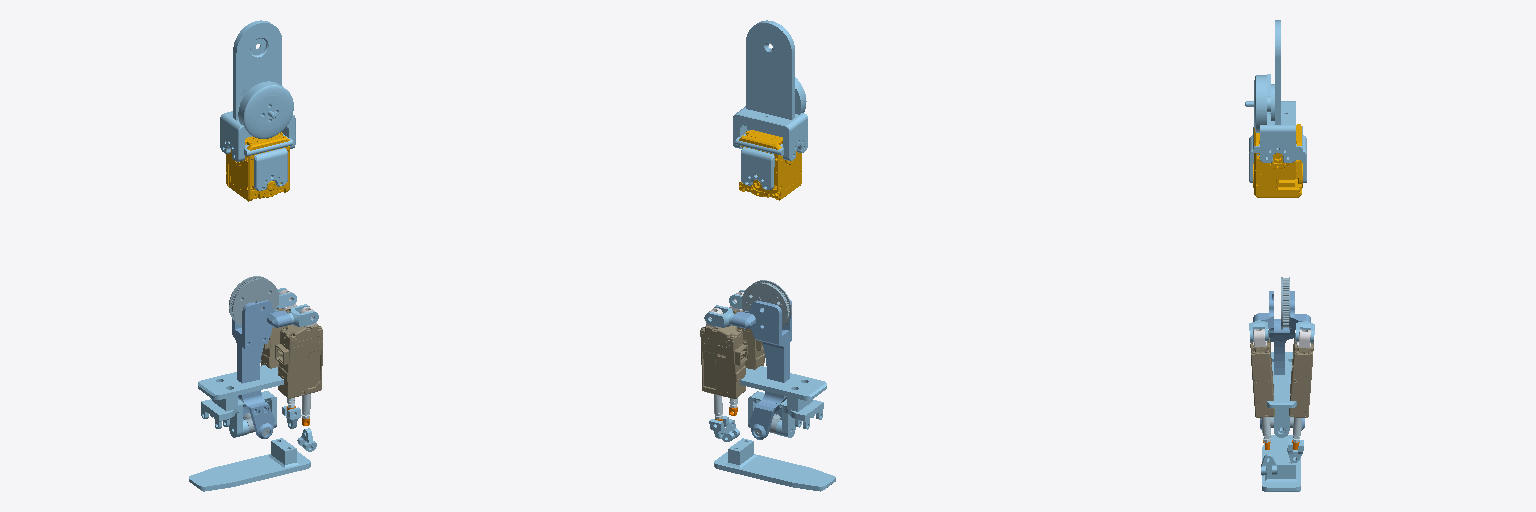
--- Facts derived from the render (not from the file) ---
Views: 3 orthographic renders of the robot side by side, from view 1: azimuth 30°, elevation 25°; view 2: azimuth 150°, elevation 25°; view 3: azimuth 270°, elevation 25°.
Model right_3R+RH5_leg with 20 links and 19 joints (15 revolute, 2 prismatic, 2 fixed), rooted at hip_yaw_link, posed all joints at 0.
Visible links, largest first — view 1: hip_pitch_link, right_ank_base_link, ank_act_link_2, ank_roll_link, ank_rigid_foot_link, hip_roll_link, knee_link, hip_yaw_link, ank_act_link; view 2: hip_pitch_link, right_ank_base_link, ank_roll_link, ank_act_link, ank_rigid_foot_link, hip_yaw_link, hip_roll_link, knee_link, ank_act_link_2; view 3: hip_pitch_link, hip_roll_link, hip_yaw_link, ank_rigid_foot_link, right_ank_base_link, ank_act_link_2, ank_act_link, ank_roll_link.
Boxes of the visible links, x1,y1,x2,y2 form: hip_pitch_link: (233,20,293,190); right_ank_base_link: (232,300,291,438); ank_act_link_2: (275,324,322,398); ank_roll_link: (198,365,283,437); ank_rigid_foot_link: (189,438,310,491); hip_roll_link: (226,132,289,201); knee_link: (229,276,278,325); hip_yaw_link: (220,111,295,161); ank_act_link: (261,308,290,368); hip_pitch_link: (735,20,806,189); right_ank_base_link: (731,300,791,439); ank_roll_link: (740,366,826,437); ank_act_link: (700,325,747,398); ank_rigid_foot_link: (714,438,835,491); hip_yaw_link: (733,106,807,160); hip_roll_link: (739,130,801,200); knee_link: (742,280,791,327); ank_act_link_2: (733,310,764,369); hip_pitch_link: (1245,20,1306,182); hip_roll_link: (1253,124,1302,197); hip_yaw_link: (1260,101,1295,162); ank_rigid_foot_link: (1262,435,1300,491); right_ank_base_link: (1253,291,1310,430); ank_act_link_2: (1250,338,1274,417); ank_act_link: (1289,338,1313,417); ank_roll_link: (1267,352,1296,437).
Size in the robot's own frame: 0.1048 by 0.0527 by 0.3745 metres.
Meshes: 20 distinct files referenced, 20 mesh visuals loaded (20 binary STL).

The robot description file, URDF, robot "right_3R+RH5_leg":
<?xml version="1.0" ?><robot name="right_3R+RH5_leg">  
  <link name="hip_yaw_link">    
    <visual>      
      <origin xyz="0 0 0" rpy="0 -0 0"/>      
      <geometry>        
        <mesh filename="package:///meshes/right_hip_yaw_link_visual.stl"/>        
      </geometry>      
      <material name="hip_yaw_link_material">        
        <color rgba="0.61568627450980395466 0.81176470588235305481 0.92941176470588238168 1.0"/>        
      </material>      
    </visual>    
    <collision>      
      <origin xyz="0 0 0" rpy="0 -0 0"/>      
      <geometry>        
        <mesh filename="package:///meshes/right_hip_yaw_link_collision.stl"/>        
      </geometry>      
    </collision>    
    <inertial>      
      <origin xyz="-3.8983216683675526987e-18 -7.2300657443008242353e-19 -0.0084531286823174307116" rpy="0 0 0"/>      
      <mass value="0.0052740645607467495637"/>      
      <inertia ixx="7.6143588499644941938e-07" ixy="7.0320919242220844363e-15" ixz="8.8320822891460543035e-34" iyy="1.7966487931922366156e-06" iyz="-6.9171929592048350638e-33" izz="1.8873281741438425462e-06"/>      
    </inertial>    
  </link>  

  <link name="hip_roll_link">    
    <visual>      
      <origin xyz="0 0 0" rpy="0 -0 0"/>      
      <geometry>        
        <mesh filename="package:///meshes/right_hip_roll_link_visual.stl"/>        
      </geometry>      
      <material name="hip_roll_link_material">        
        <color rgba="0.95018735644455865064 0.7067892720042843191 0.061612079402596720001 1.0"/>        
      </material>      
    </visual>    
    <collision>      
      <origin xyz="0 0 0" rpy="0 -0 0"/>      
      <geometry>        
        <mesh filename="package:///meshes/right_hip_roll_link_collision.stl"/>        
      </geometry>      
    </collision>    
    <inertial>      
      <origin xyz="-0.012000151133959833377 -0.00049588831385889416224 -0.018504019244505811453" rpy="0 0 0"/>      
      <mass value="0.098012391483528665814"/>      
      <inertia ixx="2.0221748766306652981e-05" ixy="-4.1552068246547218946e-08" ixz="-4.1225592188429616372e-08" iyy="2.7358099958307135748e-05" iyz="-5.093573175241380698e-07" izz="2.7358069524723690384e-05"/>      
    </inertial>    
  </link>  

  <link name="hip_pitch_link">    
    <visual>      
      <origin xyz="0 0 0" rpy="0 -0 0"/>      
      <geometry>        
        <mesh filename="package:///meshes/right_hip_pitch_link_visual.stl"/>        
      </geometry>      
      <material name="hip_pitch_link_material">        
        <color rgba="0.61568627450980395466 0.81176470588235283277 0.92941176470588227065 1.0"/>        
      </material>      
    </visual>    
    <collision>      
      <origin xyz="0 0 0" rpy="0 -0 0"/>      
      <geometry>        
        <mesh filename="package:///meshes/right_hip_pitch_link_collision.stl"/>        
      </geometry>      
    </collision>    
    <inertial>      
      <origin xyz="-0.00014465123710725999516 0.055851948309978222129 0.027156881267530071783" rpy="0 0 0"/>      
      <mass value="0.075144662701080278122"/>      
      <inertia ixx="4.0191529808885851835e-05" ixy="1.623844418442417537e-07" ixz="-1.4752139614323362055e-08" iyy="1.4356178520875724372e-05" iyz="-2.3026600051060964539e-06" izz="4.2265078109541420618e-05"/>      
    </inertial>    
  </link>  

  <link name="knee_link">    
    <visual>      
      <origin xyz="0 0 0" rpy="0 -0 0"/>      
      <geometry>        
        <mesh filename="package:///meshes/right_knee_link_visual.stl"/>        
      </geometry>      
      <material name="knee_link_material">        
        <color rgba="0.62989867807310029324 0.73714958717504697194 0.80150013263621511239 1.0"/>        
      </material>      
    </visual>    
    <collision>      
      <origin xyz="0 0 0" rpy="0 -0 0"/>      
      <geometry>        
        <mesh filename="package:///meshes/right_knee_link_collision.stl"/>        
      </geometry>      
    </collision>    
    <inertial>      
      <origin xyz="2.2930993575220520592e-15 1.0194134712680472382e-16 -0.0032457853126615842862" rpy="0 0 0"/>      
      <mass value="0.0043868974356887713642"/>      
      <inertia ixx="4.1908664095026372809e-07" ixy="-3.527451692166674951e-22" ixz="2.5633827820732630342e-20" iyy="4.1908664095022767625e-07" iyz="-2.7729161229050645453e-20" izz="8.0521341717898272296e-07"/>      
    </inertial>    
  </link>  

  <link name="right_ank_base_link">    
    <visual>      
      <origin xyz="0 0 0" rpy="0 -0 0"/>      
      <geometry>        
        <mesh filename="package:///meshes/right_ank_base_link_visual.stl"/>        
      </geometry>      
      <material name="right_ank_base_link_material">        
        <color rgba="0.5455536855413490871 0.7211394378947934003 0.87071994595430790564 1.0"/>        
      </material>      
    </visual>    
    <collision>      
      <origin xyz="0 0 0" rpy="0 -0 0"/>      
      <geometry>        
        <mesh filename="package:///meshes/right_ank_base_link_collision.stl"/>        
      </geometry>      
    </collision>    
    <inertial>      
      <origin xyz="-0.0022434246825545952481 -0.043104144816367810644 0.0063175704226240839492" rpy="0 0 0"/>      
      <mass value="0.014262085602793541511"/>      
      <inertia ixx="1.5262992632425638055e-05" ixy="-9.1266664371014340128e-07" ixz="6.0404946505415910537e-08" iyy="1.9634196913479027744e-06" iyz="7.3113059658501759968e-08" izz="1.5076214172992223627e-05"/>      
    </inertial>    
  </link>  

  <link name="ank_pitch_link">    
    <visual>      
      <origin xyz="0 0 0" rpy="0 -0 0"/>      
      <geometry>        
        <mesh filename="package:///meshes/right_ank_pitch_link_visual.stl"/>        
      </geometry>      
      <material name="ank_pitch_link_material">        
        <color rgba="0.63157201649708316626 0.72836456044913711061 0.78644008682036969926 1.0"/>        
      </material>      
    </visual>    
    <collision>      
      <origin xyz="0 0 0" rpy="0 -0 0"/>      
      <geometry>        
        <mesh filename="package:///meshes/right_ank_pitch_link_collision.stl"/>        
      </geometry>      
    </collision>    
    <inertial>      
      <origin xyz="3.9220459174922812651e-08 0.00058467997205909570928 -0.014599924406173933264" rpy="0 0 0"/>      
      <mass value="0.0041366725921694333726"/>      
      <inertia ixx="4.3252419788338039062e-07" ixy="1.5885354162184914303e-13" ixz="1.5670565564399258187e-12" iyy="3.9522408111774207479e-07" iyz="1.663814119414858242e-14" izz="8.5883658455740207731e-08"/>      
    </inertial>    
  </link>  

  <link name="ank_roll_link">    
    <visual>      
      <origin xyz="0 0 0" rpy="0 -0 0"/>      
      <geometry>        
        <mesh filename="package:///meshes/right_ank_roll_link_visual.stl"/>        
      </geometry>      
      <material name="ank_roll_link_material">        
        <color rgba="0.61568627450980395466 0.81176470588235283277 0.92941176470588238168 1.0"/>        
      </material>      
    </visual>    
    <collision>      
      <origin xyz="0 0 0" rpy="0 -0 0"/>      
      <geometry>        
        <mesh filename="package:///meshes/right_ank_roll_link_collision.stl"/>        
      </geometry>      
    </collision>    
    <inertial>      
      <origin xyz="-1.4901271645905528225e-10 -0.013684967917931601528 0.014389602633949057781" rpy="0 0 0"/>      
      <mass value="0.0054237955467263104098"/>      
      <inertia ixx="2.3215873123896826578e-06" ixy="-5.7389209348295819919e-15" ixz="-9.0715784905635599198e-15" iyy="2.105458792231080349e-06" iyz="3.6308271258505765771e-07" izz="5.6387331373110577477e-07"/>      
    </inertial>    
  </link>  

  <link name="ank_rigid_foot_link">    
    <visual>      
      <origin xyz="0 0 0" rpy="0 -0 0"/>      
      <geometry>        
        <mesh filename="package:///meshes/right_ank_rigid_foot_link_visual.stl"/>        
      </geometry>      
      <material name="ank_rigid_foot_link_material">        
        <color rgba="0.61568627450980395466 0.81176470588235294379 0.92941176470588238168 1.0"/>        
      </material>      
    </visual>    
    <collision>      
      <origin xyz="0 0 0" rpy="0 -0 0"/>      
      <geometry>        
        <mesh filename="package:///meshes/right_ank_rigid_foot_link_collision.stl"/>        
      </geometry>      
    </collision>    
    <inertial>      
      <origin xyz="-0.023731999094105331316 -9.4396649343501770574e-10 -0.013306321578886238718" rpy="0 0 0"/>      
      <mass value="0.0082157357687249205763"/>      
      <inertia ixx="6.5404454512568329969e-07" ixy="3.4320556103395723728e-13" ixz="-3.2926756768140883475e-07" iyy="5.8836130895435065553e-06" iyz="-3.0207161970767061131e-15" izz="6.2852473690143510358e-06"/>      
    </inertial>    
  </link>  

  <joint name="right_ank_foot" type="fixed">    
    <origin xyz="2.6020852139652106416e-18 -0.022500000000000019984 0.025600000000000008166" rpy="-1.5707963267948936714 -1.570796326794896558 0"/>    
    <parent link="ank_roll_link"/>    
    <child link="ank_rigid_foot_link"/>    
    <axis xyz="0 0 1"/>    
    <limit effort="1" velocity="20"/>    
    <joint_properties friction="0.0"/>    
  </joint>  

  <link name="ank_rr_link">    
    <visual>      
      <origin xyz="0 0 0" rpy="0 -0 0"/>      
      <geometry>        
        <mesh filename="package:///meshes/right_ank_rr_link_visual.stl"/>        
      </geometry>      
      <material name="ank_rr_link_material">        
        <color rgba="0.61568627450980395466 0.81176470588235294379 0.92941176470588238168 1.0"/>        
      </material>      
    </visual>    
    <collision>      
      <origin xyz="0 0 0" rpy="0 -0 0"/>      
      <geometry>        
        <mesh filename="package:///meshes/right_ank_rr_link_collision.stl"/>        
      </geometry>      
    </collision>    
    <inertial>      
      <origin xyz="2.9962725549968777526e-05 -0.0069241283254153134993 -0.0018999999999999986951" rpy="0 0 0"/>      
      <mass value="0.0004758513732428606177"/>      
      <inertia ixx="1.1040705352249971577e-08" ixy="4.3855175770053584868e-11" ixz="-6.710285772970852926e-15" iyy="9.5635364996381564202e-09" iyz="-4.7962001969980322085e-32" izz="1.4744115584475854764e-08"/>      
    </inertial>    
  </link>  

  <link name="ank_act_rod_head">    
    <visual>      
      <origin xyz="0 0 0" rpy="0 -0 0"/>      
      <geometry>        
        <mesh filename="package:///meshes/right_ank_act_rod_head_visual.stl"/>        
      </geometry>      
      <material name="ank_act_rod_head_material">        
        <color rgba="0.97254901960784312376 0.52941176470588235947 0.0039215686274509803377 1.0"/>        
      </material>      
    </visual>    
    <collision>      
      <origin xyz="0 0 0" rpy="0 -0 0"/>      
      <geometry>        
        <mesh filename="package:///meshes/right_ank_act_rod_head_collision.stl"/>        
      </geometry>      
    </collision>    
    <inertial>      
      <origin xyz="-5.7828415394494329719e-11 0.0033987031118029092588 -0.0020055782443104655695" rpy="0 0 0"/>      
      <mass value="0.00066080012085386230676"/>      
      <inertia ixx="1.067579410464855452e-08" ixy="-1.8531171292467465003e-16" ixz="9.2603132968170797526e-16" iyy="2.3773718249661060612e-09" iyz="6.3401399719237501065e-12" izz="1.1538333246010971133e-08"/>      
    </inertial>    
  </link>  

  <joint name="right_ank_R21" type="revolute">    
    <origin xyz="0.0019999999999999948375 -0.010000000000000008882 -0.001899999999999998912" rpy="-1.5707963267948978903 -1.5676670168133413075 -1.5707963267948421571"/>    
    <parent link="ank_rr_link"/>    
    <child link="ank_act_rod_head"/>    
    <axis xyz="0 0 1"/>    
    <limit effort="1" velocity="20" lower="-1.570796326794896558" upper="1.570796326794896558"/>    
    <joint_properties friction="0.0"/>    
  </joint>  

  <joint name="right_ank_R11" type="revolute">    
    <origin xyz="0.010000000000000001943 -0.012500000000000011102 0.040600000000000004141" rpy="-1.6768084170781386496e-16 1.6793651800265835693e-16 3.0693447373540627687"/>    
    <parent link="ank_roll_link"/>    
    <child link="ank_rr_link"/>    
    <axis xyz="0 0 1"/>    
    <limit effort="1" velocity="20" lower="-1.570796326794896558" upper="1.570796326794896558"/>    
    <joint_properties friction="0.0"/>    
  </joint>  

  <link name="ank_rr_link_2">    
    <visual>      
      <origin xyz="0 0 0" rpy="0 -0 0"/>      
      <geometry>        
        <mesh filename="package:///meshes/right_ank_rr_link_2_visual.stl"/>        
      </geometry>      
      <material name="ank_rr_link_2_material">        
        <color rgba="0.61568627450980395466 0.81176470588235294379 0.92941176470588238168 1.0"/>        
      </material>      
    </visual>    
    <collision>      
      <origin xyz="0 0 0" rpy="0 -0 0"/>      
      <geometry>        
        <mesh filename="package:///meshes/right_ank_rr_link_2_collision.stl"/>        
      </geometry>      
    </collision>    
    <inertial>      
      <origin xyz="2.9962725549965304691e-05 0.0069241283254153134993 -0.0018999999999999991288" rpy="0 0 0"/>      
      <mass value="0.0004758513732428606177"/>      
      <inertia ixx="1.1040705352249968268e-08" ixy="-4.3855175770053423309e-11" ixz="6.7102857729708521371e-15" iyy="9.5635364996381564202e-09" iyz="4.8398011034330015542e-32" izz="1.4744115584475854764e-08"/>      
    </inertial>    
  </link>  

  <link name="ank_act_rod_head_2">    
    <visual>      
      <origin xyz="0 0 0" rpy="0 -0 0"/>      
      <geometry>        
        <mesh filename="package:///meshes/right_ank_act_rod_head_2_visual.stl"/>        
      </geometry>      
      <material name="ank_act_rod_head_2_material">        
        <color rgba="0.97254901960784312376 0.52941176470588235947 0.0039215686274509803377 1.0"/>        
      </material>      
    </visual>    
    <collision>      
      <origin xyz="0 0 0" rpy="0 -0 0"/>      
      <geometry>        
        <mesh filename="package:///meshes/right_ank_act_rod_head_2_collision.stl"/>        
      </geometry>      
    </collision>    
    <inertial>      
      <origin xyz="-5.7828408457563357717e-11 0.0033987031118029101262 -0.0020055782443104621" rpy="0 0 0"/>      
      <mass value="0.00066080012085386230676"/>      
      <inertia ixx="1.067579410464855452e-08" ixy="-1.8531171289157453949e-16" ixz="9.2603132969142457224e-16" iyy="2.377371824966105234e-09" iyz="6.3401399719235950102e-12" izz="1.1538333246010974441e-08"/>      
    </inertial>    
  </link>  

  <joint name="right_ank_R22" type="revolute">    
    <origin xyz="0.0019999999999999983069 0.010000000000000008882 -0.0018999999999999919731" rpy="-1.57079632679489678 1.5534346511597141305 -1.5707963267948845676"/>    
    <parent link="ank_rr_link_2"/>    
    <child link="ank_act_rod_head_2"/>    
    <axis xyz="0 0 1"/>    
    <limit effort="1" velocity="20" lower="-1.570796326794896558" upper="1.570796326794896558"/>    
    <joint_properties friction="0.0"/>    
  </joint>  

  <joint name="right_ank_R12" type="revolute">    
    <origin xyz="-0.0099999999999999967387 -0.012500000000000066613 0.040600000000000004141" rpy="9.9988103143397809154e-17 -2.0967218556959505843e-16 0.068787263405097776037"/>    
    <parent link="ank_roll_link"/>    
    <child link="ank_rr_link_2"/>    
    <axis xyz="0 0 1"/>    
    <limit effort="1" velocity="20" lower="-1.570796326794896558" upper="1.570796326794896558"/>    
    <joint_properties friction="0.0"/>    
  </joint>  

  <joint name="right_ank_roll" type="revolute">    
    <origin xyz="-5.5511151231257827021e-17 0.0014999999999999768293 -0.014599999999999951558" rpy="1.5707963267948819031 1.5707963267948903408 0"/>    
    <parent link="ank_pitch_link"/>    
    <child link="ank_roll_link"/>    
    <axis xyz="0 0 1"/>    
    <limit effort="1" velocity="20" lower="-1.570796326794896558" upper="1.570796326794896558"/>    
    <joint_properties friction="0.0"/>    
  </joint>  

  <joint name="right_ank_pitch" type="revolute">    
    <origin xyz="6.1700474640187238976e-18 -0.10000000000000003331 0.020900000000000050482" rpy="2.1524613638062562596e-14 -2.3065317017433820093e-14 1.570796326794886566"/>    
    <parent link="right_ank_base_link"/>    
    <child link="ank_pitch_link"/>    
    <axis xyz="0 0 1"/>    
    <limit effort="1" velocity="20" lower="-1.570796326794896558" upper="1.570796326794896558"/>    
    <joint_properties friction="0.0"/>    
  </joint>  

  <link name="ank_b_link">    
    <visual>      
      <origin xyz="0 0 0" rpy="0 -0 0"/>      
      <geometry>        
        <mesh filename="package:///meshes/right_ank_b_link_visual.stl"/>        
      </geometry>      
      <material name="ank_b_link_material">        
        <color rgba="0.61568627450980406568 0.81176470588235294379 0.92941176470588238168 1.0"/>        
      </material>      
    </visual>    
    <collision>      
      <origin xyz="0 0 0" rpy="0 -0 0"/>      
      <geometry>        
        <mesh filename="package:///meshes/right_ank_b_link_collision.stl"/>        
      </geometry>      
    </collision>    
    <inertial>      
      <origin xyz="-4.9409968175544484784e-09 -5.9508723608379905335e-09 -0.0087165888679858073013" rpy="0 0 0"/>      
      <mass value="0.00089583742203429468642"/>      
      <inertia ixx="3.3822537554673509423e-08" ixy="3.9003059549392044671e-15" ixz="1.5176340834648324084e-14" iyy="4.5803979388252428374e-08" iyz="5.2207519907265700011e-14" izz="2.594683440225980531e-08"/>      
    </inertial>    
  </link>  

  <link name="ank_act_link_head">    
    <visual>      
      <origin xyz="0 0 0" rpy="0 -0 0"/>      
      <geometry>        
        <mesh filename="package:///meshes/right_ank_act_link_head_visual.stl"/>        
      </geometry>      
      <material name="ank_act_link_head_material">        
        <color rgba="0.8805660089056220885 0.88861789403065327697 0.90620490627743233158 1.0"/>        
      </material>      
    </visual>    
    <collision>      
      <origin xyz="0 0 0" rpy="0 -0 0"/>      
      <geometry>        
        <mesh filename="package:///meshes/right_ank_act_link_head_collision.stl"/>        
      </geometry>      
    </collision>    
    <inertial>      
      <origin xyz="8.5302207703837132192e-09 0.0023472231756390400485 -0.0042999819767211991742" rpy="0 0 0"/>      
      <mass value="0.0030517714925792842166"/>      
      <inertia ixx="5.2970409371069555265e-08" ixy="5.7058840513732253177e-14" ixz="-1.0325254833977710632e-14" iyy="5.6254659413317869681e-08" iyz="1.1646556569934522781e-13" izz="6.2451084839899270333e-08"/>      
    </inertial>    
  </link>  

  <link name="ank_act_link">    
    <visual>      
      <origin xyz="0 0 0" rpy="0 -0 0"/>      
      <geometry>        
        <mesh filename="package:///meshes/right_ank_act_link_visual.stl"/>        
      </geometry>      
      <material name="ank_act_link_material">        
        <color rgba="0.62004392100736005489 0.58836684613512624242 0.49897069021535672695 1.0"/>        
      </material>      
    </visual>    
    <collision>      
      <origin xyz="0 0 0" rpy="0 -0 0"/>      
      <geometry>        
        <mesh filename="package:///meshes/right_ank_act_link_collision.stl"/>        
      </geometry>      
    </collision>    
    <inertial>      
      <origin xyz="0.0049084207243647679647 -0.00013802439943745199182 -0.029947003577143242736" rpy="0 0 0"/>      
      <mass value="0.044782197696050365932"/>      
      <inertia ixx="1.52601284213093901e-05" ixy="2.2955773686564167726e-08" ixz="-8.1364204008484701276e-08" iyy="1.8188469778947831417e-05" iyz="-5.5542240843756715522e-08" izz="5.1496273901734048408e-06"/>      
    </inertial>    
  </link>  

  <link name="ank_act_rod">    
    <visual>      
      <origin xyz="0 0 0" rpy="0 -0 0"/>      
      <geometry>        
        <mesh filename="package:///meshes/right_ank_act_rod_visual.stl"/>        
      </geometry>      
      <material name="ank_act_rod_material">        
        <color rgba="0.80016770676329818102 0.8929145636529542962 0.94547111589042631685 1.0"/>        
      </material>      
    </visual>    
    <collision>      
      <origin xyz="0 0 0" rpy="0 -0 0"/>      
      <geometry>        
        <mesh filename="package:///meshes/right_ank_act_rod_collision.stl"/>        
      </geometry>      
    </collision>    
    <inertial>      
      <origin xyz="-2.7254954593875549871e-06 -1.2667795960830460569e-05 0.0060054807227744345932" rpy="0 0 0"/>      
      <mass value="0.0026945559868381372022"/>      
      <inertia ixx="3.2231832056358606122e-07" ixy="-9.9380293181823303651e-13" ixz="1.0490654904957858964e-10" iyy="3.223121869777962733e-07" iyz="5.6317539917809700133e-10" izz="1.8746557075763437803e-08"/>      
    </inertial>    
  </link>  

  <joint name="right_ank_act1" type="prismatic">    
    <origin xyz="2.272209339737596423e-06 -2.7408630920433552092e-15 -0.0592458187002377068" rpy="-3.141592653589793116 1.1304262253414882217e-15 -0.63671356442004933829"/>    
    <parent link="ank_act_link"/>    
    <child link="ank_act_rod"/>    
    <axis xyz="0 0 1"/>    
    <limit effort="1" velocity="20" lower="-0.017000000000000001221" upper="0.017000000000000001221"/>    
    <joint_properties friction="0.0"/>    
  </joint>  

  <joint name="right_ank_B31" type="revolute">    
    <origin xyz="6.9388939039072283776e-18 0.0060499999999999998224 -0.0043000000000000052069" rpy="1.570796326794896558 5.4574690831719151044e-06 -5.3684158344603204677e-16"/>    
    <parent link="ank_act_link_head"/>    
    <child link="ank_act_link"/>    
    <axis xyz="0 0 1"/>    
    <limit effort="1" velocity="20" lower="-1.570796326794896558" upper="1.570796326794896558"/>    
    <joint_properties friction="0.0"/>    
  </joint>  

  <joint name="right_ank_B21" type="revolute">    
    <origin xyz="0.0045000000000000005274 -2.7755575615628913511e-17 -0.017000000000000001221" rpy="-1.5707963267940137086 -1.5676670168132000871 -1.5707963267958193754"/>    
    <parent link="ank_b_link"/>    
    <child link="ank_act_link_head"/>    
    <axis xyz="0 0 1"/>    
    <limit effort="1" velocity="20" lower="-1.570796326794896558" upper="1.570796326794896558"/>    
    <joint_properties friction="0.0"/>    
  </joint>  

  <joint name="right_ank_B11" type="revolute">    
    <origin xyz="0.020000000000000000416 -0.0099999999999999811262 -0.011499999999999996336" rpy="-1.570796326794896558 -1.4985484105594246707 1.5707963267948987784"/>    
    <parent link="right_ank_base_link"/>    
    <child link="ank_b_link"/>    
    <axis xyz="0 0 1"/>    
    <limit effort="1" velocity="20" lower="-1.570796326794896558" upper="1.570796326794896558"/>    
    <joint_properties friction="0.0"/>    
  </joint>  

  <link name="ank_b_link_2">    
    <visual>      
      <origin xyz="0 0 0" rpy="0 -0 0"/>      
      <geometry>        
        <mesh filename="package:///meshes/right_ank_b_link_2_visual.stl"/>        
      </geometry>      
      <material name="ank_b_link_2_material">        
        <color rgba="0.61568627450980406568 0.81176470588235294379 0.92941176470588238168 1.0"/>        
      </material>      
    </visual>    
    <collision>      
      <origin xyz="0 0 0" rpy="0 -0 0"/>      
      <geometry>        
        <mesh filename="package:///meshes/right_ank_b_link_2_collision.stl"/>        
      </geometry>      
    </collision>    
    <inertial>      
      <origin xyz="-4.9409968175544484784e-09 5.9508723330824140907e-09 0.0087165888679858142402" rpy="0 0 0"/>      
      <mass value="0.00089583742203429468642"/>      
      <inertia ixx="3.3822537554673509423e-08" ixy="-3.9003059554955746529e-15" ixz="-1.5176340834648324084e-14" iyy="4.5803979388252415139e-08" iyz="5.22075199072656937e-14" izz="2.594683440225980531e-08"/>      
    </inertial>    
  </link>  

  <link name="ank_act_link_head_2">    
    <visual>      
      <origin xyz="0 0 0" rpy="0 -0 0"/>      
      <geometry>        
        <mesh filename="package:///meshes/right_ank_act_link_head_2_visual.stl"/>        
      </geometry>      
      <material name="ank_act_link_head_2_material">        
        <color rgba="0.8805660089056220885 0.88861789403065327697 0.90620490627743233158 1.0"/>        
      </material>      
    </visual>    
    <collision>      
      <origin xyz="0 0 0" rpy="0 -0 0"/>      
      <geometry>        
        <mesh filename="package:///meshes/right_ank_act_link_head_2_collision.stl"/>        
      </geometry>      
    </collision>    
    <inertial>      
      <origin xyz="8.5302207399783902428e-09 -0.0023472231756390070888 -0.0043000180232787791473" rpy="0 0 0"/>      
      <mass value="0.0030517714925792842166"/>      
      <inertia ixx="5.2970409371069006017e-08" ixy="-5.7058840825240588304e-14" ixz="1.0325254833860236621e-14" iyy="5.6254659413317882916e-08" iyz="1.1646556591912576352e-13" izz="6.2451084839898767408e-08"/>      
    </inertial>    
  </link>  

  <link name="ank_act_link_2">    
    <visual>      
      <origin xyz="0 0 0" rpy="0 -0 0"/>      
      <geometry>        
        <mesh filename="package:///meshes/right_ank_act_link_2_visual.stl"/>        
      </geometry>      
      <material name="ank_act_link_2_material">        
        <color rgba="0.62004392100736016591 0.58836684613512635345 0.49897069021535672695 1.0"/>        
      </material>      
    </visual>    
    <collision>      
      <origin xyz="0 0 0" rpy="0 -0 0"/>      
      <geometry>        
        <mesh filename="package:///meshes/right_ank_act_link_2_collision.stl"/>        
      </geometry>      
    </collision>    
    <inertial>      
      <origin xyz="0.0049084207243672529561 -0.00013802439943495241792 -0.029947003577138860825" rpy="0 0 0"/>      
      <mass value="0.044782197696050352054"/>      
      <inertia ixx="1.5260128421306046013e-05" ixy="2.2955773686690464971e-08" ixz="-8.136420400740882385e-08" iyy="1.818846977894372839e-05" iyz="-5.554224084275256458e-08" izz="5.1496273901726416641e-06"/>      
    </inertial>    
  </link>  

  <link name="ank_act_rod_2">    
    <visual>      
      <origin xyz="0 0 0" rpy="0 -0 0"/>      
      <geometry>        
        <mesh filename="package:///meshes/right_ank_act_rod_2_visual.stl"/>        
      </geometry>      
      <material name="ank_act_rod_2_material">        
        <color rgba="0.80016770676329818102 0.8929145636529542962 0.94547111589042631685 1.0"/>        
      </material>      
    </visual>    
    <collision>      
      <origin xyz="0 0 0" rpy="0 -0 0"/>      
      <geometry>        
        <mesh filename="package:///meshes/right_ank_act_rod_2_collision.stl"/>        
      </geometry>      
    </collision>    
    <inertial>      
      <origin xyz="-2.7254954594293200641e-06 -1.2667795961227158285e-05 0.0060054807227742845396" rpy="0 0 0"/>      
      <mass value="0.0026945559868381372022"/>      
      <inertia ixx="3.2231832056357446746e-07" ixy="-9.9380293178145843632e-13" ixz="1.0490654905088433301e-10" iyy="3.2231218697778457366e-07" iyz="5.6317539919026369076e-10" izz="1.8746557075763530447e-08"/>      
    </inertial>    
  </link>  

  <joint name="right_ank_act2" type="prismatic">    
    <origin xyz="2.2722093445462498984e-06 1.4675760606763788019e-15 -0.059208011505609670078" rpy="-3.1415926535897837901 -1.2381997508906741431e-14 -0.63671356441984272578"/>    
    <parent link="ank_act_link_2"/>    
    <child link="ank_act_rod_2"/>    
    <axis xyz="0 0 1"/>    
    <limit effort="1" velocity="20" lower="-0.017000000000000001221" upper="0.017000000000000001221"/>    
    <joint_properties friction="0.0"/>    
  </joint>  

  <joint name="right_ank_B32" type="revolute">    
    <origin xyz="1.3877787807814456755e-17 -0.0060499999999999998224 -0.0043000000000000017375" rpy="-1.5707963267948992225 -5.457469620238887183e-06 7.9371251948125348319e-15"/>    
    <parent link="ank_act_link_head_2"/>    
    <child link="ank_act_link_2"/>    
    <axis xyz="0 0 1"/>    
    <limit effort="1" velocity="20" lower="-1.570796326794896558" upper="1.570796326794896558"/>    
    <joint_properties friction="0.0"/>    
  </joint>  

  <joint name="right_ank_B22" type="revolute">    
    <origin xyz="0.0045000000000000005274 0 0.017000000000000001221" rpy="-1.5707963267948961139 1.5534346511595535922 -1.5707963267945059815"/>    
    <parent link="ank_b_link_2"/>    
    <child link="ank_act_link_head_2"/>    
    <axis xyz="0 0 1"/>    
    <limit effort="1" velocity="20" lower="-1.570796326794896558" upper="1.570796326794896558"/>    
    <joint_properties friction="0.0"/>    
  </joint>  

  <joint name="right_ank_B12" type="revolute">    
    <origin xyz="0.018680019623525345035 -0.010000000000000203171 0.023400000000000038824" rpy="1.570796326794896558 1.5020090633896898691 1.5707963267948452657"/>    
    <parent link="right_ank_base_link"/>    
    <child link="ank_b_link_2"/>    
    <axis xyz="0 0 1"/>    
    <limit effort="1" velocity="20" lower="-1.570796326794896558" upper="1.570796326794896558"/>    
    <joint_properties friction="0.0"/>    
  </joint>  

  <joint name="right_ank_base" type="fixed">    
    <origin xyz="3.9968028886505635455e-15 4.9960036108132044319e-16 -0.0064999999999950843627" rpy="1.318134964783001977e-13 -6.6907839384880761199e-14 1.0471975511965974093"/>    
    <parent link="knee_link"/>    
    <child link="right_ank_base_link"/>    
    <axis xyz="0 0 1"/>    
    <limit effort="1" velocity="20"/>    
    <joint_properties friction="0.0"/>    
  </joint>  

  <joint name="right_knee" type="revolute">    
    <origin xyz="-7.1206608387014969571e-17 0.10750000000000017875 0.021499999999999321737" rpy="3.141592653589788231 2.2515415620049152478e-15 1.0471975511964732863"/>    
    <parent link="hip_pitch_link"/>    
    <child link="knee_link"/>    
    <axis xyz="0 0 1"/>    
    <limit effort="1" velocity="20" lower="-1.570796326794896558" upper="1.570796326794896558"/>    
    <joint_properties friction="0.0"/>    
  </joint>  

  <joint name="right_hip_pitch" type="revolute">    
    <origin xyz="-0.024000000716144390817 -0.019000000152457414276 -0.019000000152450624569" rpy="-1.5707963267951599029 1.570796326794861697 0"/>    
    <parent link="hip_roll_link"/>    
    <child link="hip_pitch_link"/>    
    <axis xyz="0 0 1"/>    
    <limit effort="1" velocity="20" lower="-1.570796326794896558" upper="1.570796326794896558"/>    
    <joint_properties friction="0.0"/>    
  </joint>  

  <joint name="right_hip_roll" type="revolute">    
    <origin xyz="-0.018999999999999881567 -8.4133799350138936069e-18 -0.0274999999999999932" rpy="7.2939485982875388073e-31 -1.5707963267948756858 0"/>    
    <parent link="hip_yaw_link"/>    
    <child link="hip_roll_link"/>    
    <axis xyz="0 0 1"/>    
    <limit effort="1" velocity="20" lower="-1.570796326794896558" upper="1.570796326794896558"/>    
    <joint_properties friction="0.0"/>    
  </joint>  


</robot>
